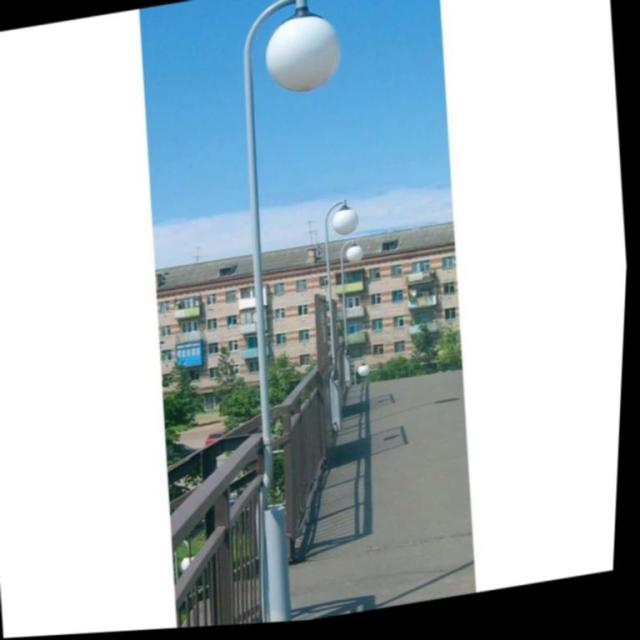pole: (238, 151, 303, 623)
